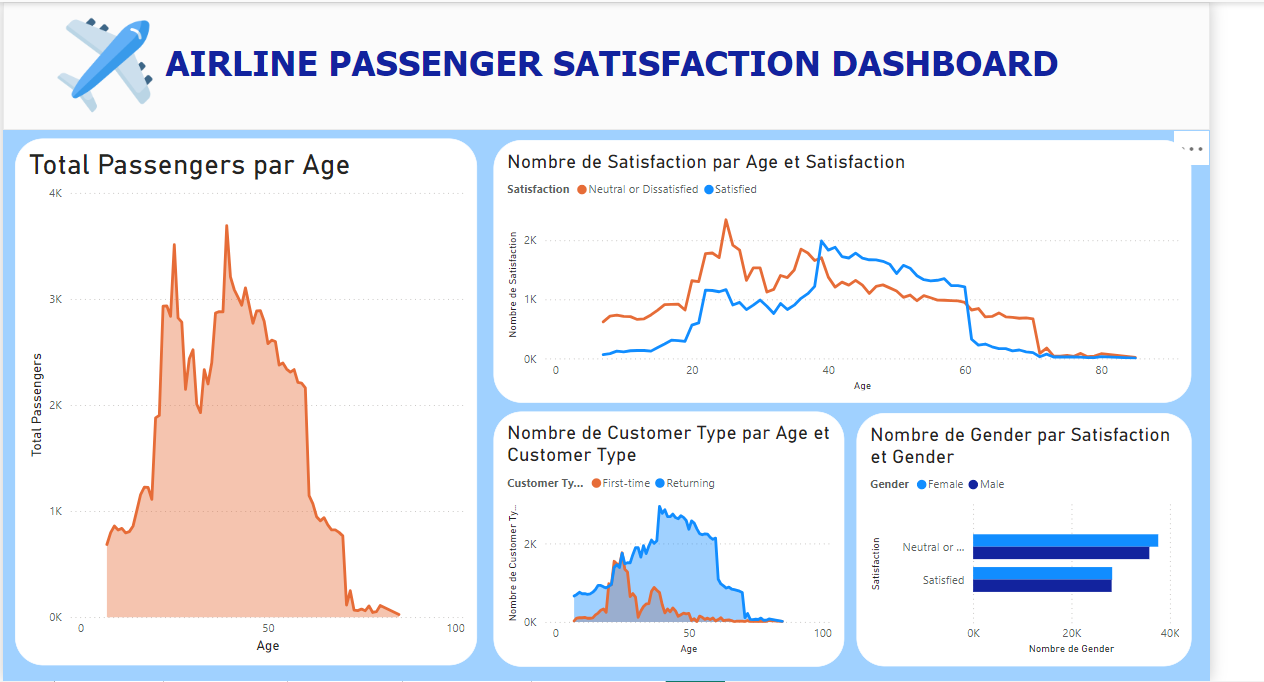

What the dashboard file says about the page in this screenshot:
{"tool":"powerbi","page":{"name":"Analyse","canvas":[1280,720],"ordinal":1},"visuals":[{"type":"group","id":"g1","title":"Groupe 1","box":[0,0,1280,134.6],"z":0},{"type":"textbox","box":[0,0,1280,134.6],"z":0,"group":"g1"},{"type":"image","box":[52.1,0,111,134.6],"z":1000},{"type":"clusteredBarChart","fields":{"Category":["airline_passenger_satisfaction.Satisfaction"],"Y":["CountNonNull(airline_passenger_satisfaction.Gender)"],"Series":["airline_passenger_satisfaction.Gender"]},"box":[904.7,436,355.6,268.8],"z":3000},{"type":"lineChart","fields":{"Category":["airline_passenger_satisfaction.Age"],"Y":["CountNonNull(airline_passenger_satisfaction.Satisfaction)"],"Series":["airline_passenger_satisfaction.Satisfaction"]},"box":[520.2,146.1,740.1,279],"z":4000},{"type":"areaChart","fields":{"Category":["airline_passenger_satisfaction.Age"],"Y":["CountNonNull(airline_passenger_satisfaction.Customer Type)"],"Series":["airline_passenger_satisfaction.Customer Type"]},"box":[519.5,434.3,372,270.4],"z":5000},{"type":"areaChart","fields":{"Category":["airline_passenger_satisfaction.Age"],"Y":["airline_passenger_satisfaction.Total Passengers"]},"box":[13.1,144.2,490,558.9],"z":6001}]}

Visuals, with their boxes on the page's 1280x720 design canvas (x1, y1, x2, y2). These are canvas units, not pixel positions in the 1264x682 screenshot, which may show the page scaled, cropped or inside an application window:
"Groupe 1" group: x1=0 y1=0 x2=1280 y2=135
textbox: x1=0 y1=0 x2=1280 y2=135
image: x1=52 y1=0 x2=163 y2=135
clusteredBarChart - airline_passenger_satisfaction.Satisfaction x CountNonNull(airline_passenger_satisfaction.Gender): x1=905 y1=436 x2=1260 y2=705
lineChart - airline_passenger_satisfaction.Age x CountNonNull(airline_passenger_satisfaction.Satisfaction): x1=520 y1=146 x2=1260 y2=425
areaChart - airline_passenger_satisfaction.Age x CountNonNull(airline_passenger_satisfaction.Customer Type): x1=520 y1=434 x2=892 y2=705
areaChart - airline_passenger_satisfaction.Age x airline_passenger_satisfaction.Total Passengers: x1=13 y1=144 x2=503 y2=703
